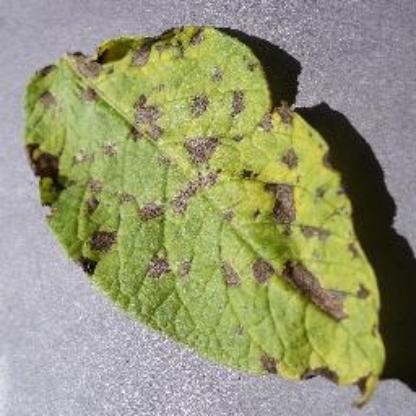Early-Blight: (25, 21, 388, 404)
